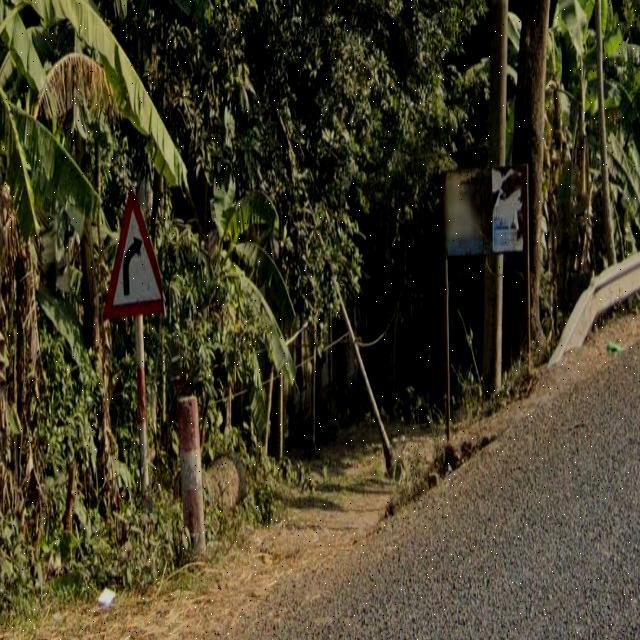Right-turn: (102, 189, 164, 321)
